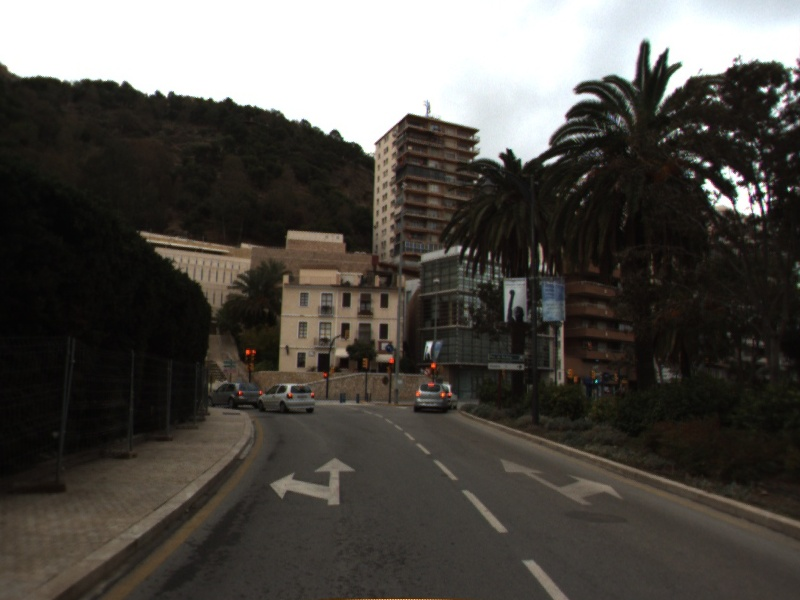STRAIGHT_LEFT: (267, 456, 358, 507)
STRAIGHT_RIGHT: (499, 457, 625, 507)
